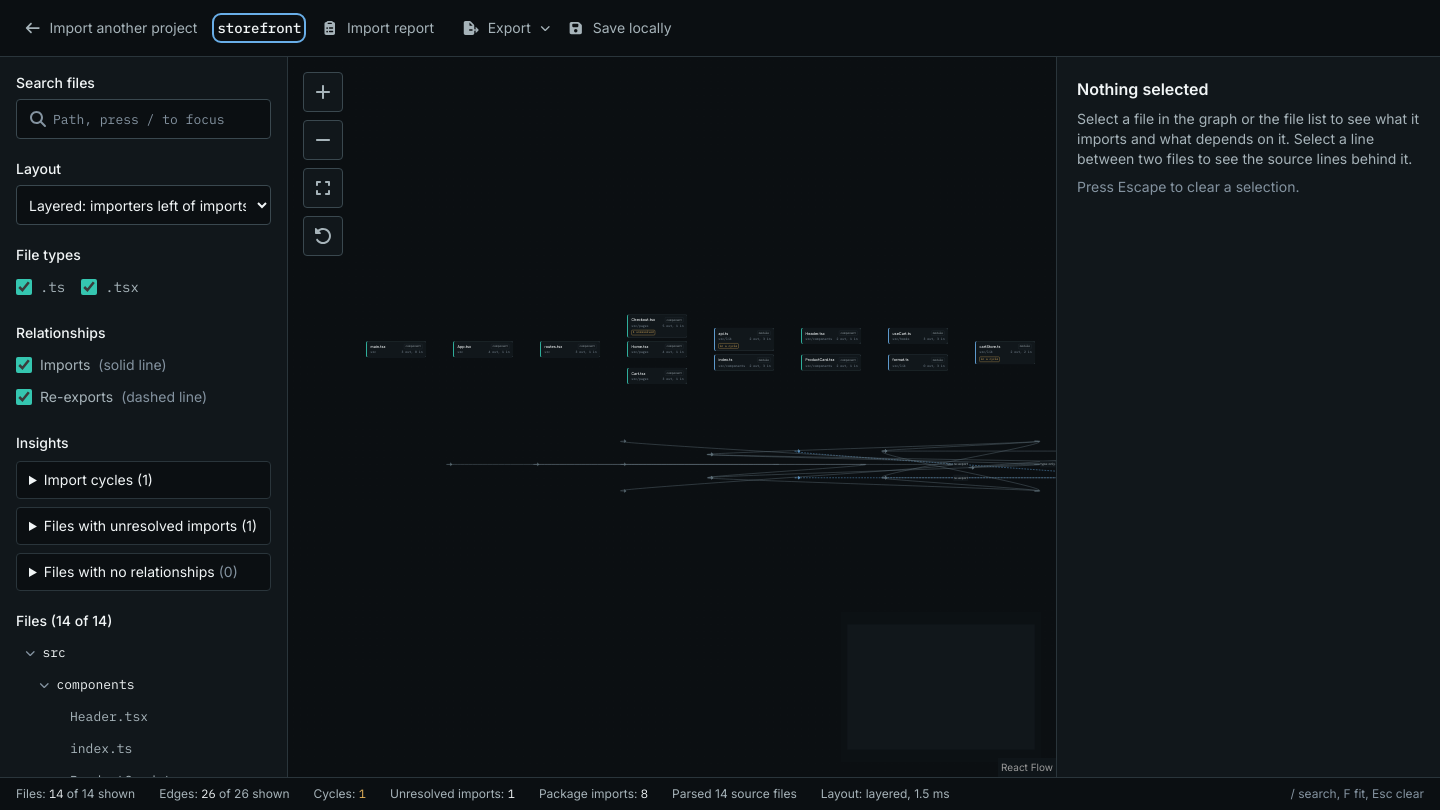
Workspace with a multi-file project › switches layouts and reports the choice
Select "Grouped by folder" in the dropdown labelled "Layout" at (144, 205), box x1=16 y1=185 x2=271 y2=225
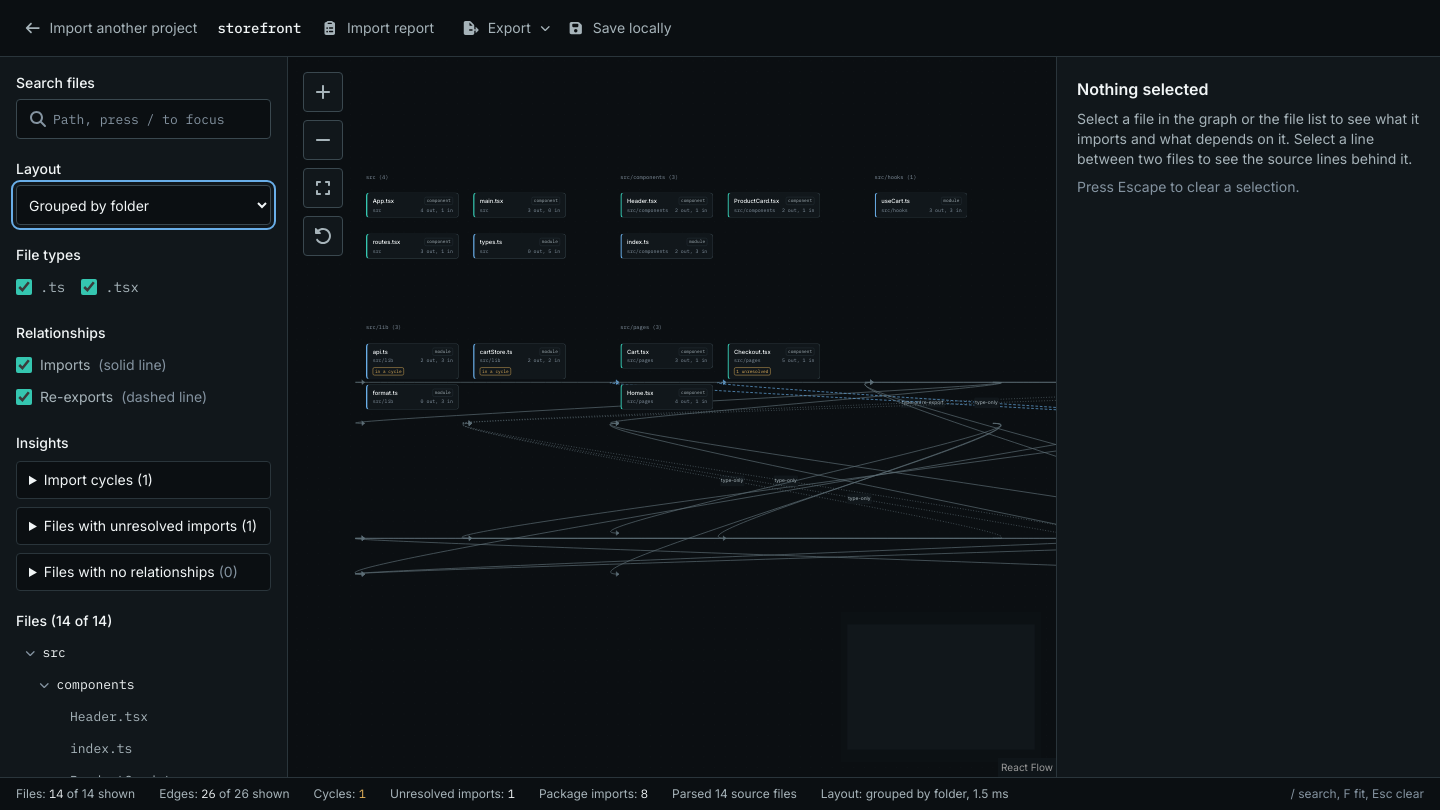
Check: the message shows "Layout: grouped by folder", box x1=0 y1=777 x2=1439 y2=809
Select "Force-directed" in the dropdown labelled "Layout" at (144, 205), box x1=16 y1=185 x2=271 y2=225
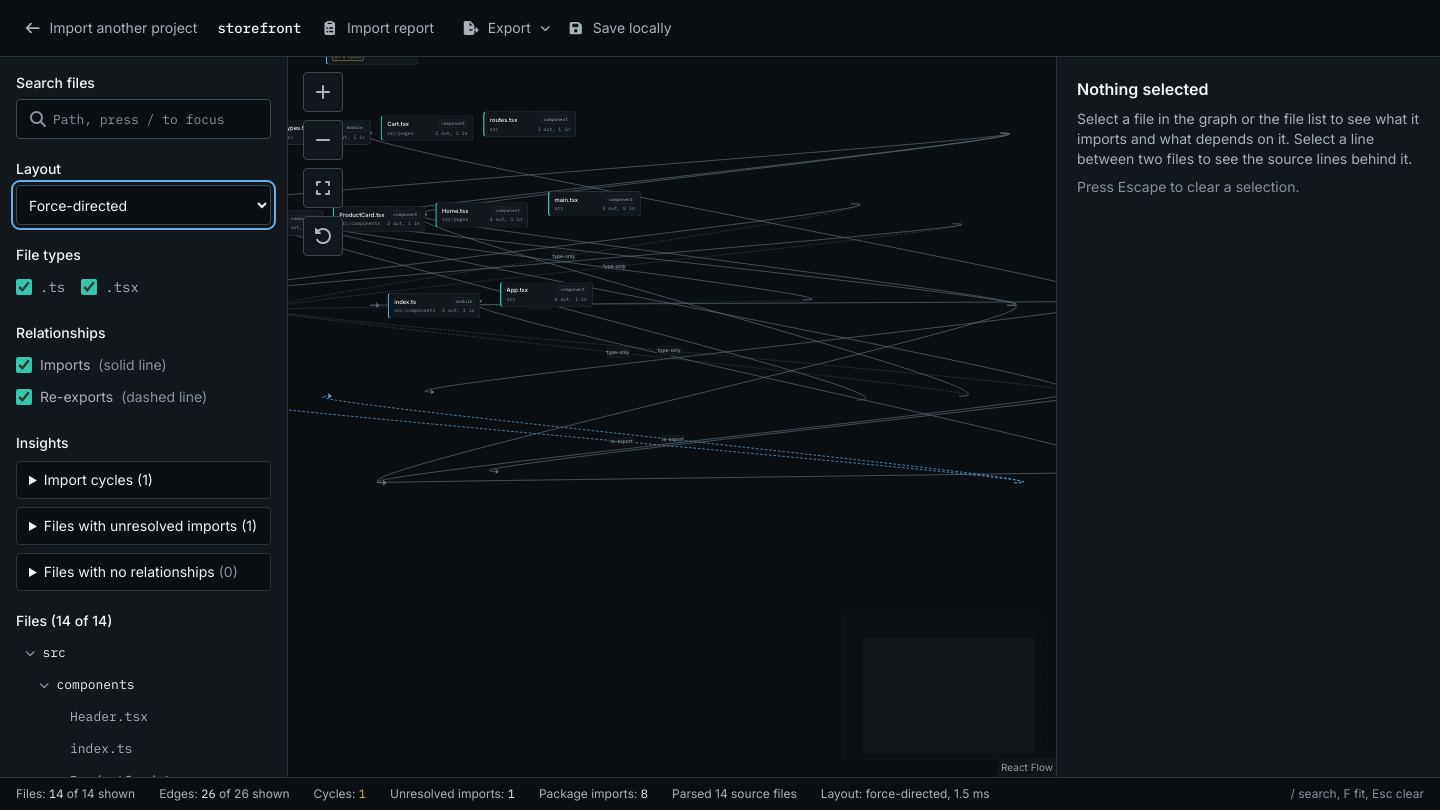
Check: the message shows "Layout: force-directed", box x1=0 y1=777 x2=1439 y2=809
